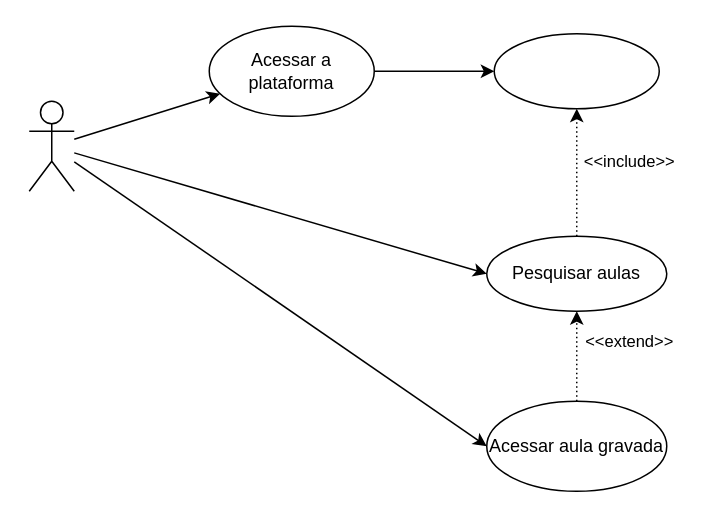
The diagram is 701 pixels wide and 518 high, and some of its shapes have lost their labels. The box of each missing label's shape, as (x1, y1, x2, y2) in pixels:
Fazer login: (493, 32, 659, 109)
Sênior: (28, 100, 74, 191)
